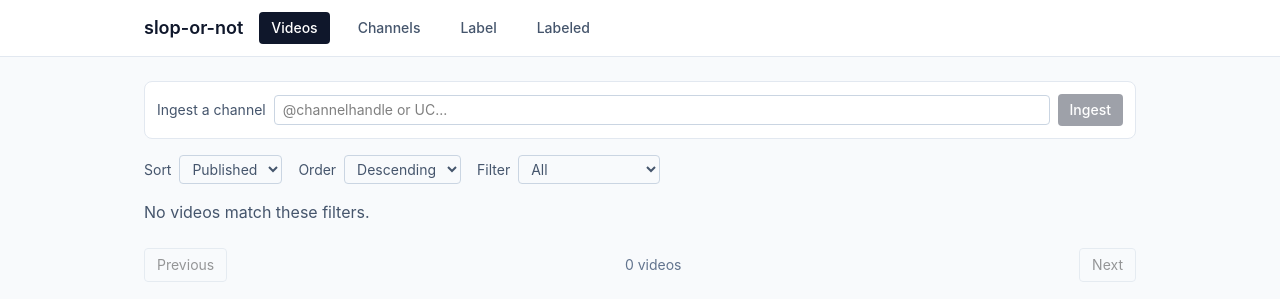
Scenario: AppRoutes › navigates between pages via the nav links
The width and height of the screenshot is (1280, 299).
Check: the text "No videos match these filters." is shown, box [144,202,370,222]
Click the link "Label" at (479, 28), box [460,19,497,36]
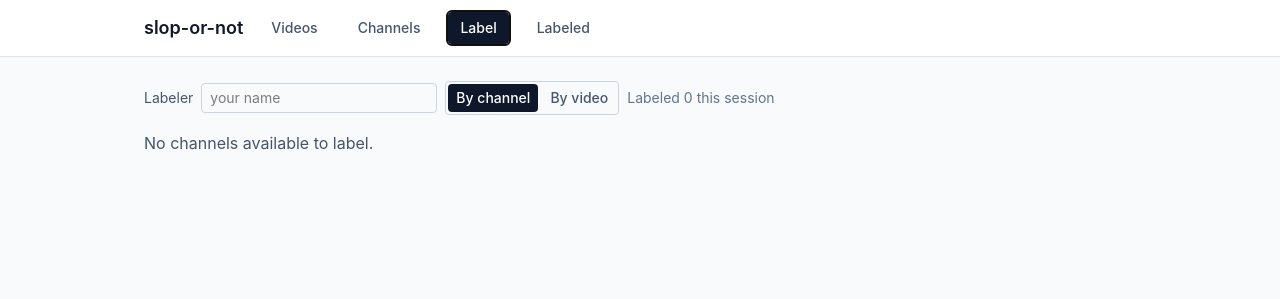
Check: the text "No channels available to label." is shown, box [144,133,373,153]
Click the link "Videos" at (294, 28), box [271,19,318,36]
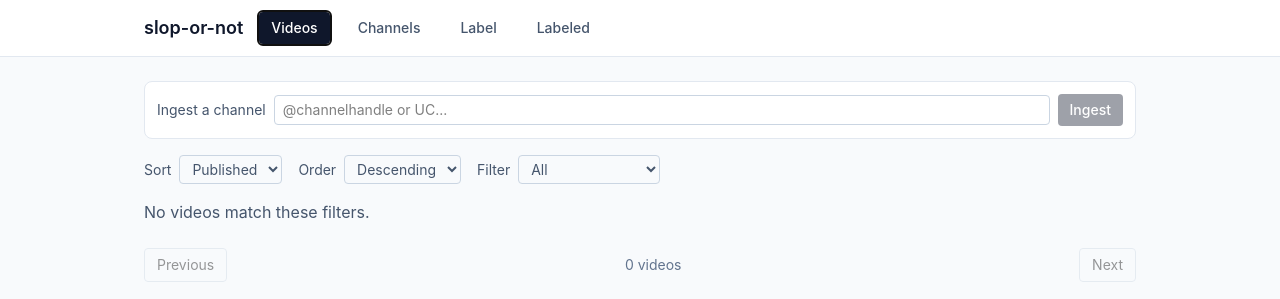
Check: the text "No videos match these filters." is shown, box [144,202,370,222]
